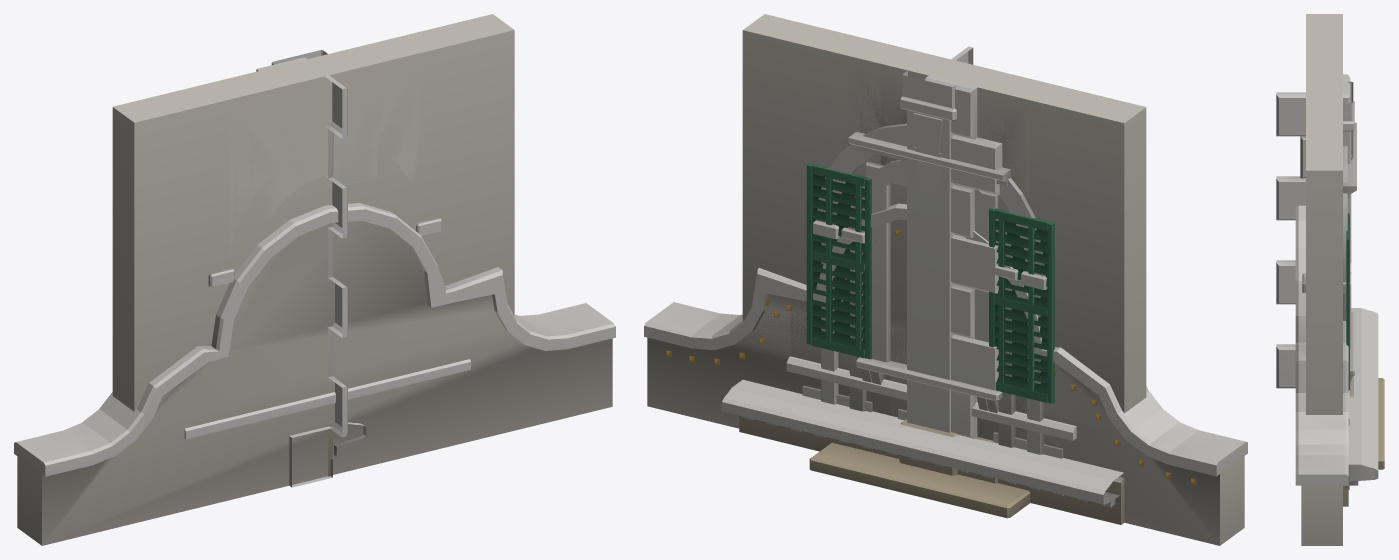
The model's file is kit_walls.glb.
3 views of the same model, side by side, from view 1: azimuth 30°, elevation 25°; view 2: azimuth 150°, elevation 25°; view 3: azimuth 270°, elevation 25° (orthographic). The views are drawn at different scales.
Parts seen in each view (by area): view 1: parapet_curved_6m, wall_arch_3m, wall_plain_4m, wall_plain_3m, wall_window_3m, wall_door_3m, wall_plain_2m, wall_plain_1m, corner_quoins, parapet_low_3m, wall_window_2m, cornice_corner; view 2: wall_plain_4m, parapet_curved_6m, wall_arch_3m, wall_window_3m, wall_window_2m, wall_door_3m, pilaster, corner_quoins, cornice_4m, wall_plain_3m, cornice_3m, parapet_low_3m (+5 smaller); view 3: wall_plain_4m, parapet_curved_6m, corner_quoins, cornice_3m, cornice_4m, wall_arch_3m, pilaster, wall_window_3m, wall_door_3m, wall_plain_3m, wall_window_2m, cornice_2m (+2 smaller).
Boxes of the visible parts, left/top/right/bottom form: parapet_curved_6m: left=14, top=203, right=615, bottom=545; wall_arch_3m: left=161, top=25, right=467, bottom=357; wall_plain_4m: left=112, top=14, right=514, bottom=411; wall_plain_3m: left=164, top=26, right=467, bottom=355; wall_window_3m: left=160, top=27, right=467, bottom=356; wall_door_3m: left=161, top=27, right=467, bottom=357; wall_plain_2m: left=229, top=53, right=419, bottom=270; wall_plain_1m: left=259, top=63, right=371, bottom=228; corner_quoins: left=256, top=57, right=347, bottom=476; parapet_low_3m: left=184, top=359, right=470, bottom=439; wall_window_2m: left=219, top=39, right=419, bottom=227; cornice_corner: left=289, top=422, right=366, bottom=487; wall_plain_4m: left=739, top=14, right=1146, bottom=524; parapet_curved_6m: left=644, top=203, right=1247, bottom=545; wall_arch_3m: left=787, top=26, right=1097, bottom=454; wall_window_3m: left=790, top=27, right=1091, bottom=413; wall_window_2m: left=826, top=39, right=1042, bottom=440; wall_door_3m: left=787, top=26, right=1094, bottom=518; pilaster: left=899, top=70, right=957, bottom=475; corner_quoins: left=923, top=46, right=1002, bottom=483; cornice_4m: left=721, top=379, right=1123, bottom=507; wall_plain_3m: left=787, top=27, right=1092, bottom=457; cornice_3m: left=769, top=391, right=1076, bottom=495; parapet_low_3m: left=786, top=356, right=1076, bottom=458; wall_plain_4m: left=1306, top=14, right=1348, bottom=506; parapet_curved_6m: left=1295, top=205, right=1348, bottom=545; corner_quoins: left=1276, top=74, right=1350, bottom=388; cornice_3m: left=1348, top=328, right=1378, bottom=450; cornice_4m: left=1348, top=308, right=1378, bottom=489; wall_arch_3m: left=1302, top=33, right=1353, bottom=321; pilaster: left=1343, top=81, right=1354, bottom=397; wall_window_3m: left=1307, top=35, right=1356, bottom=390; wall_door_3m: left=1306, top=33, right=1384, bottom=469; wall_plain_3m: left=1306, top=34, right=1342, bottom=149; wall_window_2m: left=1307, top=54, right=1356, bottom=365; cornice_2m: left=1349, top=355, right=1375, bottom=429.
Size of the model in its own units: 6 by 4 by 1.17.
